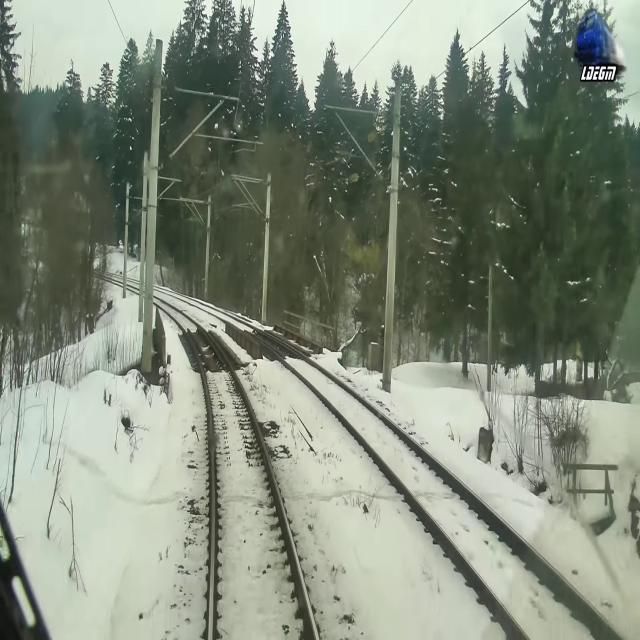rail-track: (193, 302, 616, 639), (153, 297, 315, 639)
